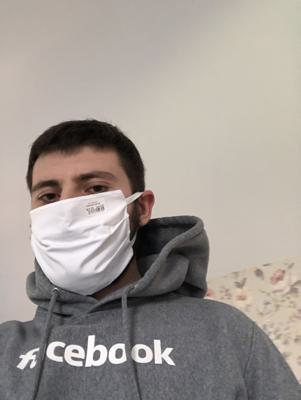mask: (31, 170, 135, 296)
